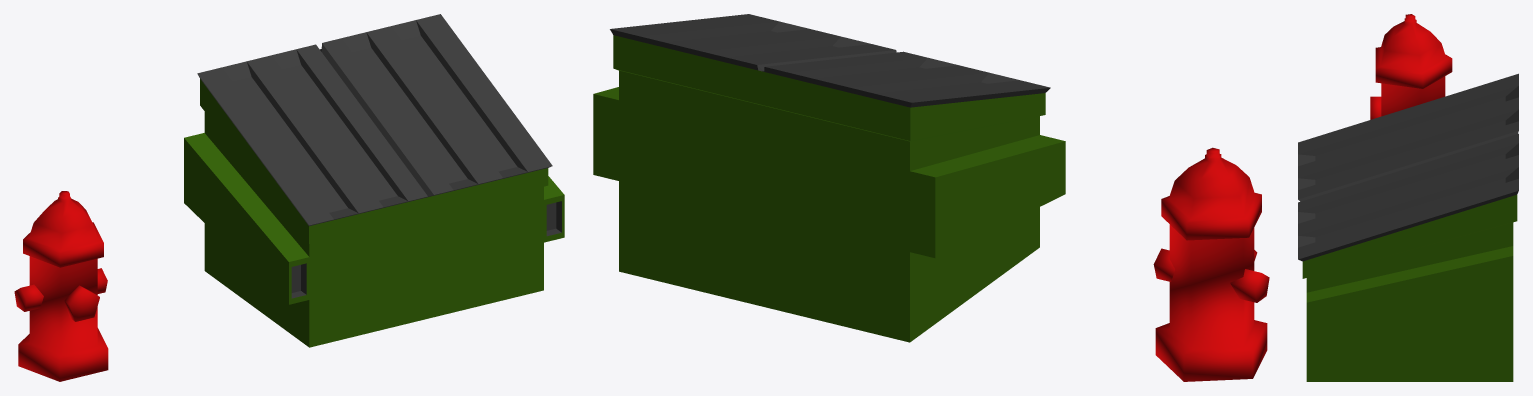
Rendered from MoreCityProps.fbx.
3 views of the same model, side by side, from view 1: azimuth 30°, elevation 25°; view 2: azimuth 150°, elevation 25°; view 3: azimuth 270°, elevation 25° (orthographic). The views are drawn at different scales.
Visible parts, largest first — view 1: Dumpster, Fire Hydrant; view 2: Dumpster, Fire Hydrant; view 3: Dumpster, Fire Hydrant.
Boxes of the visible parts, x1,y1,x2,y2 form: Dumpster: (184,14,564,347); Fire Hydrant: (14,191,108,381); Dumpster: (593,14,1065,342); Fire Hydrant: (1153,147,1269,381); Dumpster: (1298,73,1518,381); Fire Hydrant: (1370,14,1452,119).
Bounding box in the file's own units: 638 × 252 × 253.
